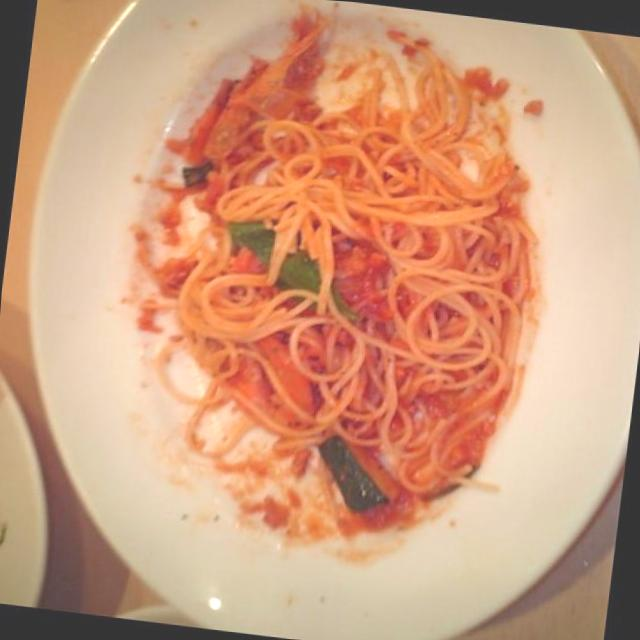Pasta: (145, 70, 537, 524)
